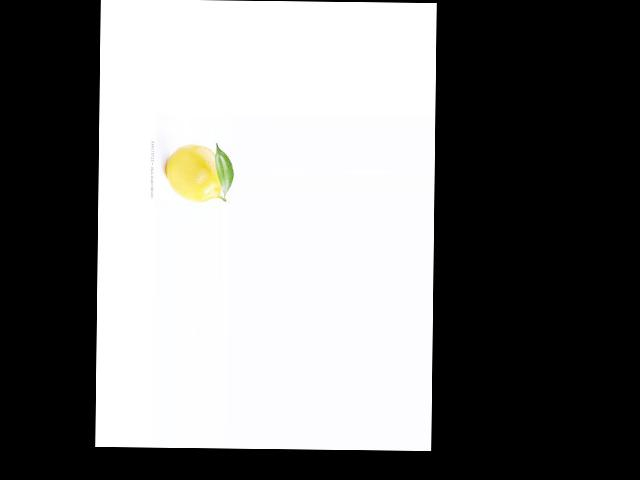lemon: (156, 137, 231, 206)
